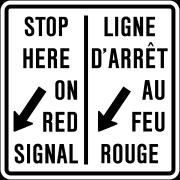Stop: (11, 8, 169, 170)
